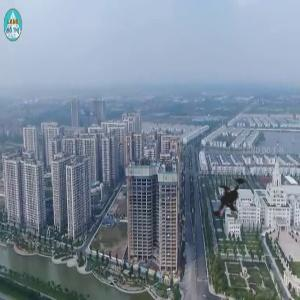drone: (180, 152, 273, 245)
